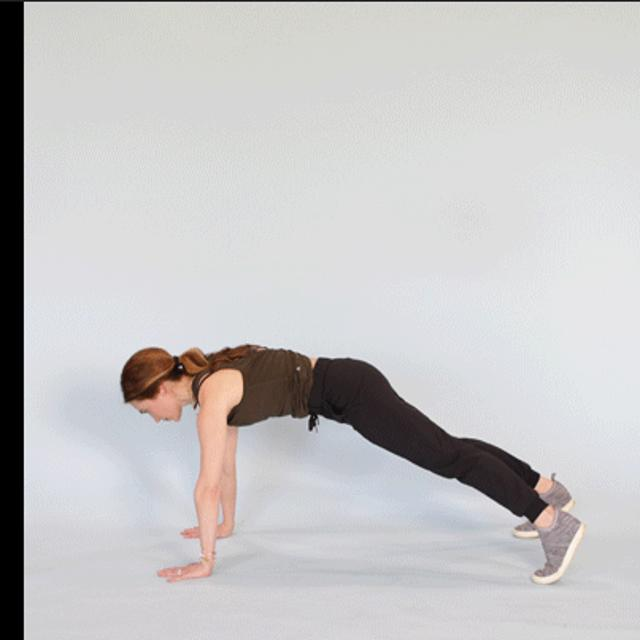Plank_Pose: (119, 325, 590, 591)
